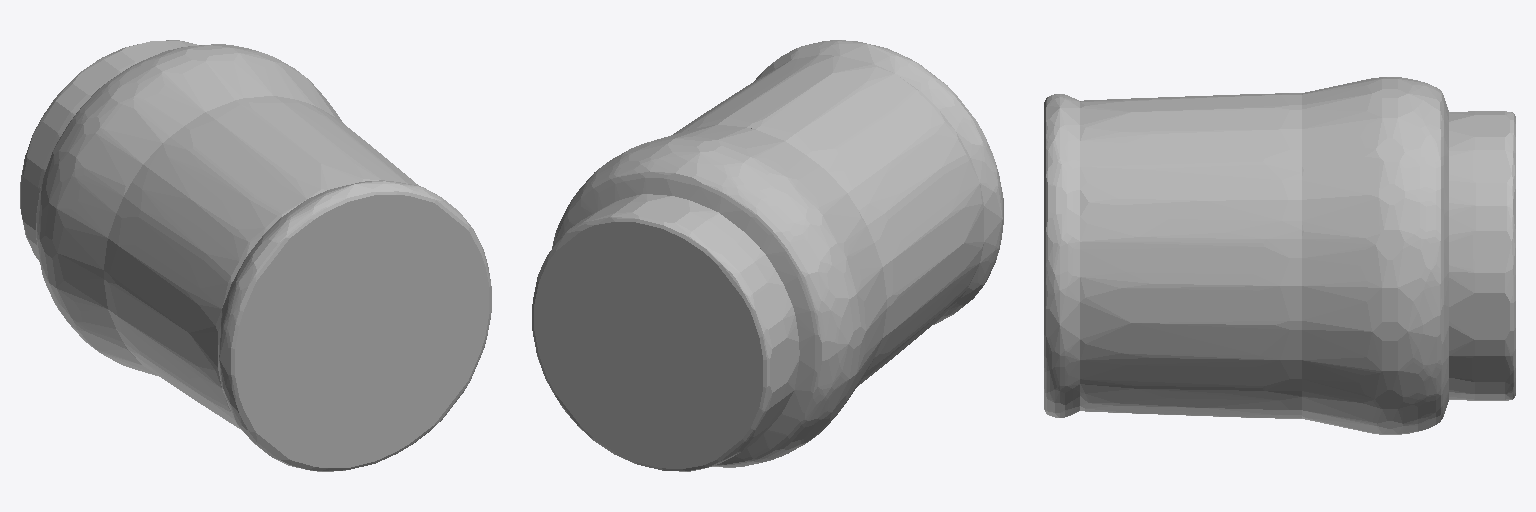
URDF robot description (root):
<robot name="root">
  <link name="link_coacd_convex_piece_0">
    <inertial>
      <origin xyz="0 0 0" rpy="0 0 0"/>
      <mass value="1.67E-01"/>
      <inertia ixx="9.44E-02" ixy="-1.40E-07" ixz="-2.63E-06" iyy="2.12E-02" iyz="-1.45E-07" izz="9.44E-02"/>
    </inertial>
    <visual>
      <origin xyz="0 0 0" rpy="0 0 0"/>
      <geometry>
        <mesh filename="coacd_convex_piece_0.obj" scale="1.0000E+00 1.0000E+00 1.0000E+00"/>
      </geometry>
      <material name="">
        <color rgba="7.50E-01 7.50E-01 7.50E-01 1"/>
      </material>
    </visual>
    <collision>
      <origin xyz="0 0 0" rpy="0 0 0"/>
      <geometry>
        <mesh filename="coacd_convex_piece_0.obj" scale="1.0000E+00 1.0000E+00 1.0000E+00"/>
      </geometry>
    </collision>
  </link>
  <link name="link_coacd_convex_piece_1">
    <inertial>
      <origin xyz="0 0 0" rpy="0 0 0"/>
      <mass value="5.28E-01"/>
      <inertia ixx="1.17E-01" ixy="-1.09E-05" ixz="-6.23E-06" iyy="9.57E-02" iyz="-1.09E-05" izz="1.17E-01"/>
    </inertial>
    <visual>
      <origin xyz="0 0 0" rpy="0 0 0"/>
      <geometry>
        <mesh filename="coacd_convex_piece_1.obj" scale="1.0000E+00 1.0000E+00 1.0000E+00"/>
      </geometry>
      <material name="">
        <color rgba="7.50E-01 7.50E-01 7.50E-01 1"/>
      </material>
    </visual>
    <collision>
      <origin xyz="0 0 0" rpy="0 0 0"/>
      <geometry>
        <mesh filename="coacd_convex_piece_1.obj" scale="1.0000E+00 1.0000E+00 1.0000E+00"/>
      </geometry>
    </collision>
  </link>
  <joint name="link_coacd_convex_piece_1_joint" type="fixed">
    <origin xyz="0 0 0" rpy="0 0 0"/>
    <parent link="link_coacd_convex_piece_0"/>
    <child link="link_coacd_convex_piece_1"/>
  </joint>
  <link name="link_coacd_convex_piece_2">
    <inertial>
      <origin xyz="0 0 0" rpy="0 0 0"/>
      <mass value="6.80E-01"/>
      <inertia ixx="1.49E-01" ixy="4.53E-06" ixz="-5.02E-06" iyy="1.06E-01" iyz="-9.60E-07" izz="1.49E-01"/>
    </inertial>
    <visual>
      <origin xyz="0 0 0" rpy="0 0 0"/>
      <geometry>
        <mesh filename="coacd_convex_piece_2.obj" scale="1.0000E+00 1.0000E+00 1.0000E+00"/>
      </geometry>
      <material name="">
        <color rgba="7.50E-01 7.50E-01 7.50E-01 1"/>
      </material>
    </visual>
    <collision>
      <origin xyz="0 0 0" rpy="0 0 0"/>
      <geometry>
        <mesh filename="coacd_convex_piece_2.obj" scale="1.0000E+00 1.0000E+00 1.0000E+00"/>
      </geometry>
    </collision>
  </link>
  <joint name="link_coacd_convex_piece_2_joint" type="fixed">
    <origin xyz="0 0 0" rpy="0 0 0"/>
    <parent link="link_coacd_convex_piece_1"/>
    <child link="link_coacd_convex_piece_2"/>
  </joint>
  <link name="link_coacd_convex_piece_3">
    <inertial>
      <origin xyz="0 0 0" rpy="0 0 0"/>
      <mass value="1.10E-01"/>
      <inertia ixx="7.19E-02" ixy="8.66E-06" ixz="-7.78E-06" iyy="1.70E-02" iyz="6.86E-06" izz="7.19E-02"/>
    </inertial>
    <visual>
      <origin xyz="0 0 0" rpy="0 0 0"/>
      <geometry>
        <mesh filename="coacd_convex_piece_3.obj" scale="1.0000E+00 1.0000E+00 1.0000E+00"/>
      </geometry>
      <material name="">
        <color rgba="7.50E-01 7.50E-01 7.50E-01 1"/>
      </material>
    </visual>
    <collision>
      <origin xyz="0 0 0" rpy="0 0 0"/>
      <geometry>
        <mesh filename="coacd_convex_piece_3.obj" scale="1.0000E+00 1.0000E+00 1.0000E+00"/>
      </geometry>
    </collision>
  </link>
  <joint name="link_coacd_convex_piece_3_joint" type="fixed">
    <origin xyz="0 0 0" rpy="0 0 0"/>
    <parent link="link_coacd_convex_piece_2"/>
    <child link="link_coacd_convex_piece_3"/>
  </joint>
</robot>

--- Facts derived from the render (not from the file) ---
Views: 3 orthographic renders of the robot side by side, from view 1: azimuth 30°, elevation 25°; view 2: azimuth 150°, elevation 25°; view 3: azimuth 270°, elevation 25°.
Robot: root — 4 links, 3 joints (3 fixed); root link link_coacd_convex_piece_0; default pose: every joint at zero.
Visible links, largest first — view 1: link_coacd_convex_piece_3, link_coacd_convex_piece_2, link_coacd_convex_piece_1, link_coacd_convex_piece_0; view 2: link_coacd_convex_piece_0, link_coacd_convex_piece_1, link_coacd_convex_piece_2, link_coacd_convex_piece_3; view 3: link_coacd_convex_piece_2, link_coacd_convex_piece_1, link_coacd_convex_piece_0, link_coacd_convex_piece_3.
Link boxes in pixels (left/top/right/bottom): link_coacd_convex_piece_3: left=218, top=180, right=491, bottom=471; link_coacd_convex_piece_2: left=104, top=96, right=418, bottom=429; link_coacd_convex_piece_1: left=36, top=44, right=342, bottom=375; link_coacd_convex_piece_0: left=20, top=40, right=198, bottom=261; link_coacd_convex_piece_0: left=532, top=194, right=799, bottom=471; link_coacd_convex_piece_1: left=552, top=125, right=886, bottom=467; link_coacd_convex_piece_2: left=673, top=55, right=983, bottom=386; link_coacd_convex_piece_3: left=754, top=40, right=1003, bottom=324; link_coacd_convex_piece_2: left=1080, top=93, right=1301, bottom=418; link_coacd_convex_piece_1: left=1302, top=77, right=1448, bottom=434; link_coacd_convex_piece_0: left=1449, top=111, right=1515, bottom=400; link_coacd_convex_piece_3: left=1044, top=94, right=1079, bottom=417.
Size in the robot's own frame: 1.25 by 1.64 by 1.25 metres.
Meshes: 4 distinct files referenced, 4 mesh visuals loaded (4 OBJ).